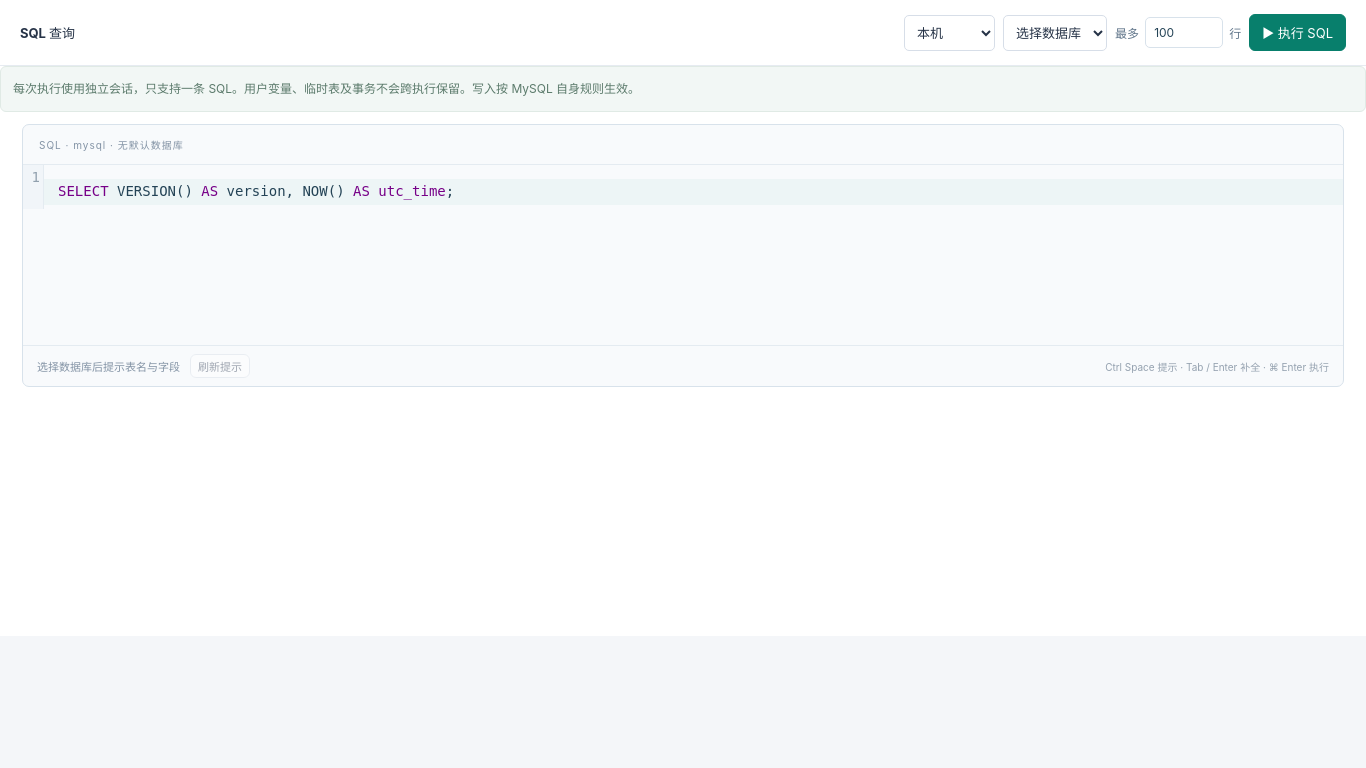
Test case: an interrupted SQL result is visibly marked for review rather than successful
Click the button "▶ 执行 SQL" at (1298, 32), box [1249,14,1346,51]
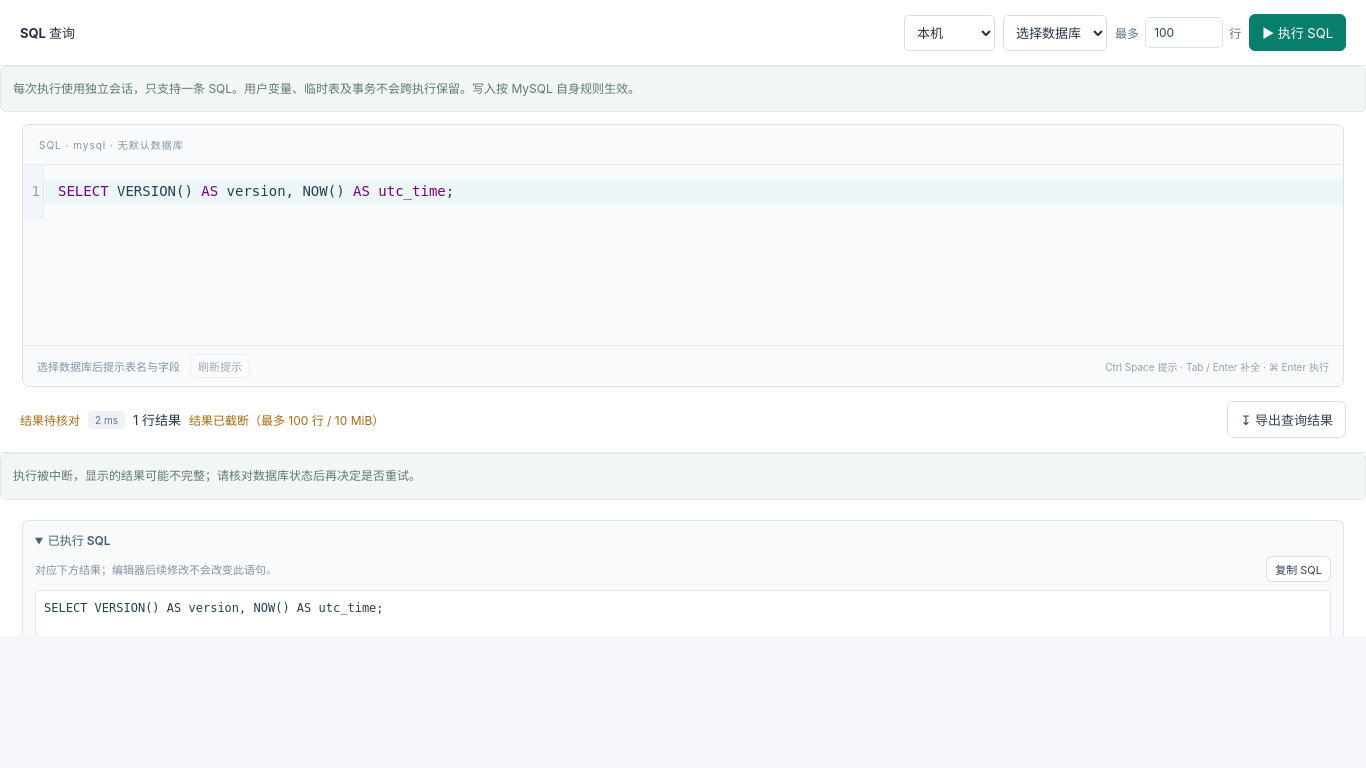
Now the text "结果待核对" is shown, box [20,411,80,428]
